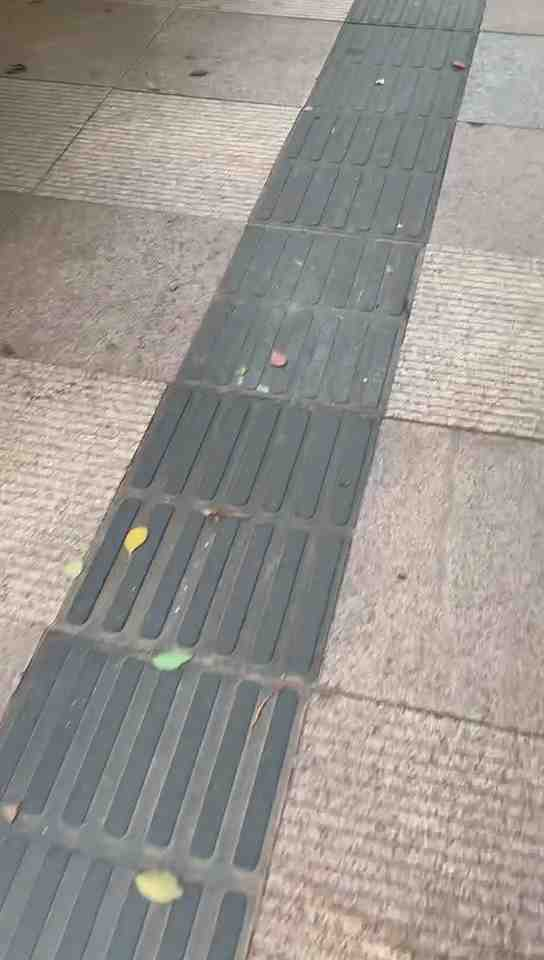leaf: (126, 863, 191, 910), (146, 647, 198, 674), (123, 522, 150, 558), (264, 347, 292, 369), (445, 56, 468, 70)
